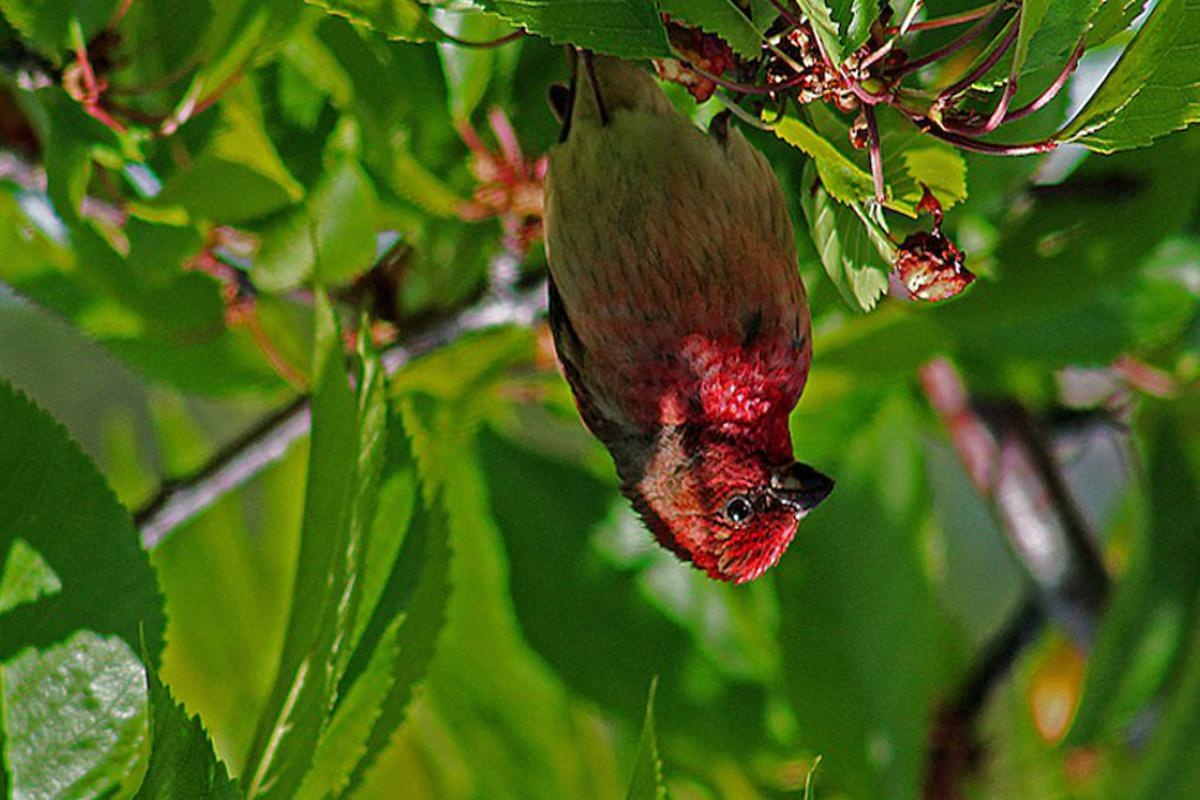rosefinch: (579, 51, 850, 593)
